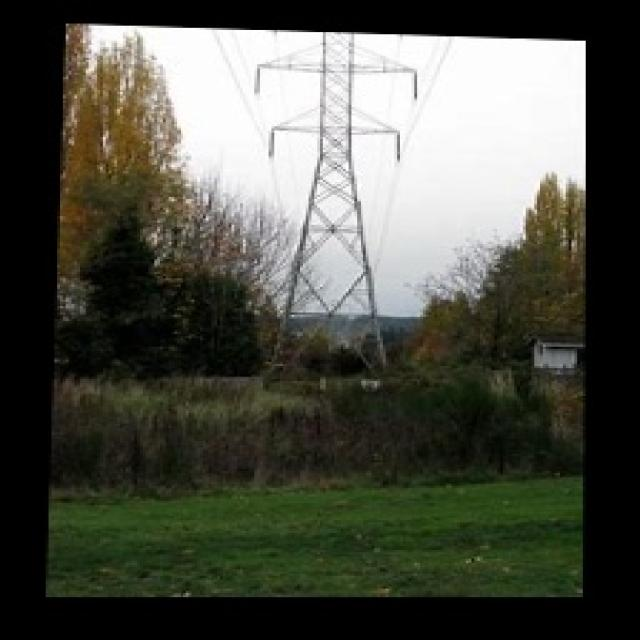utility poles: (198, 242, 321, 388), (352, 304, 481, 379)
